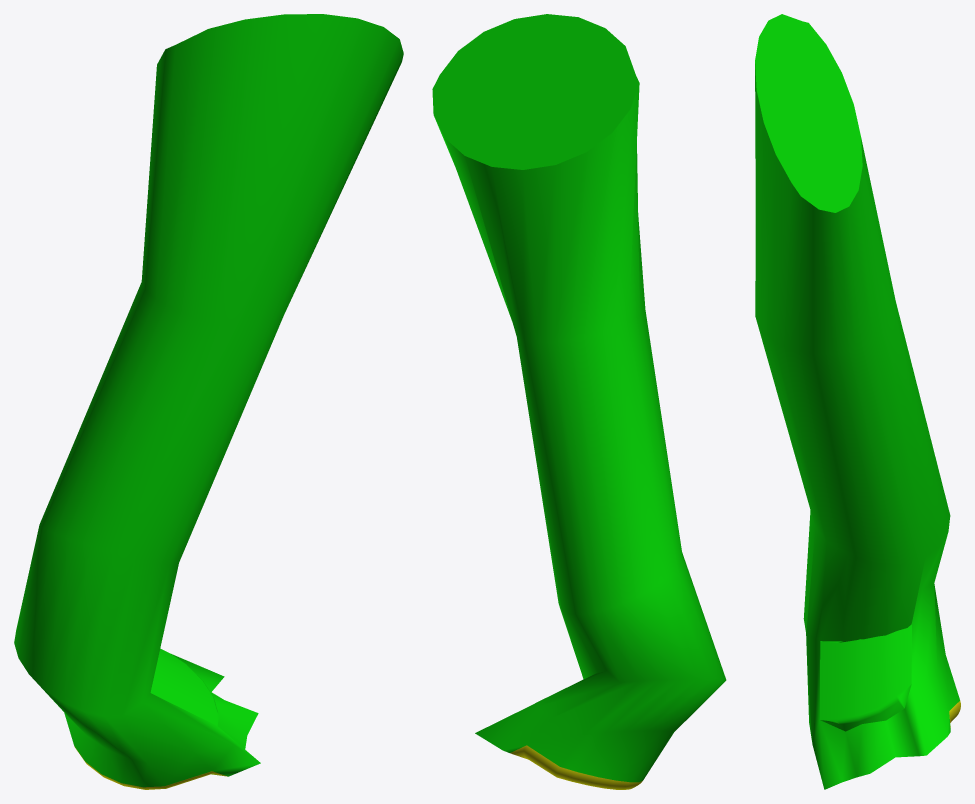
Rendered from Rear Right Leg.fbx.
3 renders of one model, left to right at view 1: azimuth 30°, elevation 25°; view 2: azimuth 150°, elevation 25°; view 3: azimuth 270°, elevation 25°, orthographic. The views are drawn at different scales.
Parts seen in each view (by area): view 1: Back_Left_Leg1; view 2: Back_Left_Leg1; view 3: Back_Left_Leg1.
Part boxes in pixels (box(x1,y1,x2,y2)): Back_Left_Leg1: box(14, 14, 403, 789); Back_Left_Leg1: box(432, 14, 726, 789); Back_Left_Leg1: box(755, 14, 960, 789).
Size of the model in its own units: 11.18 by 24.22 by 5.97.
